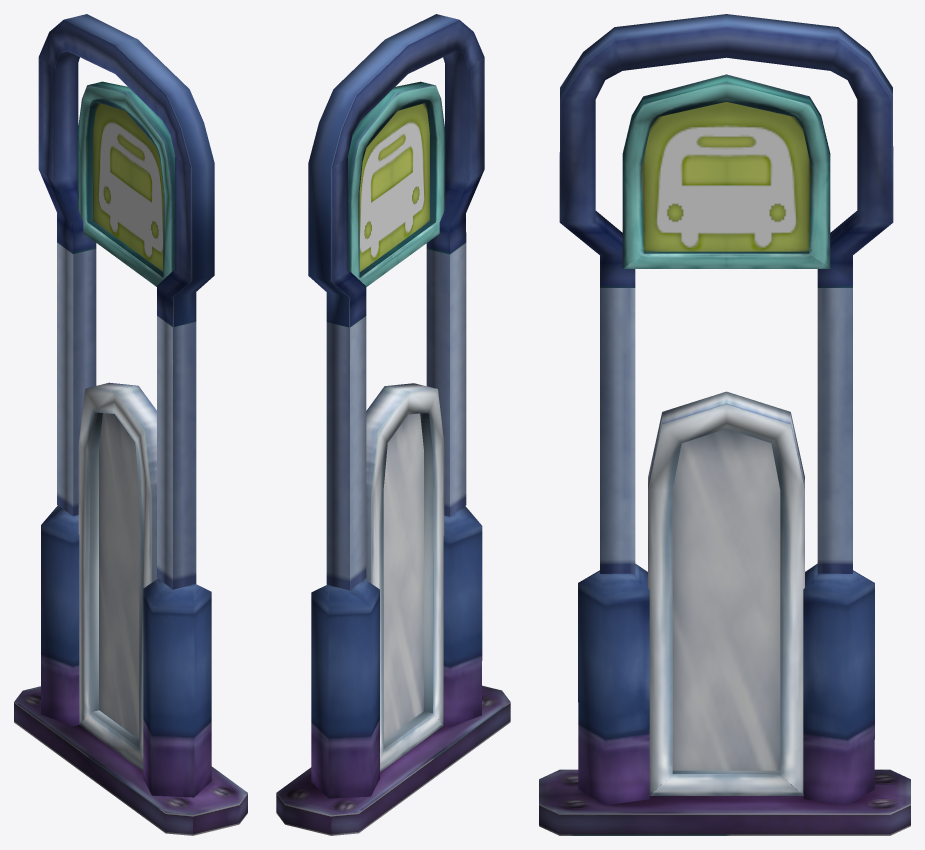
Rendered from a_SEbstop01.glb.
3 renders of one model, left to right at view 1: azimuth 30°, elevation 25°; view 2: azimuth 150°, elevation 25°; view 3: azimuth 270°, elevation 25°, orthographic. The views are drawn at different scales.
Parts seen in each view (by area): view 1: a_SEbstop01; view 2: a_SEbstop01; view 3: a_SEbstop01.
Part boxes in pixels (box(x1,y1,x2,y2)): a_SEbstop01: box(14, 14, 247, 835); a_SEbstop01: box(276, 14, 510, 835); a_SEbstop01: box(539, 14, 910, 835).
Bounding box in the file's own units: 0.2627 × 2.21 × 0.9416.
Materials: 1 (1 with a texture image).
